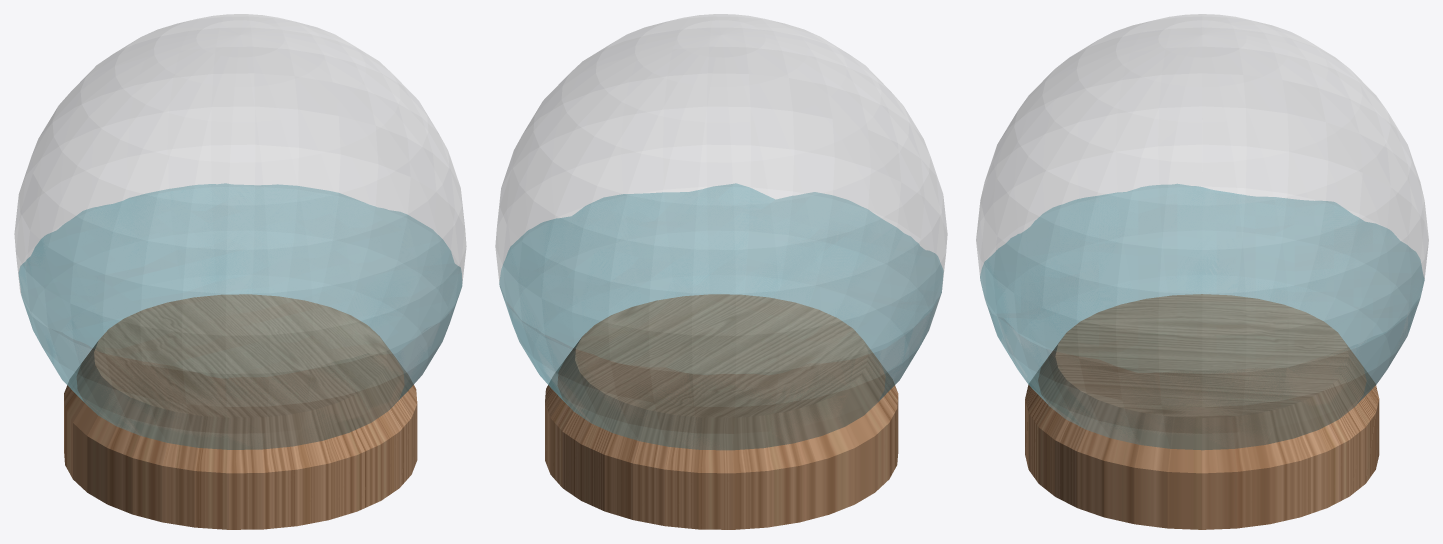
File: OceanModel.glb
3 views of the same model, side by side, from view 1: azimuth 30°, elevation 25°; view 2: azimuth 150°, elevation 25°; view 3: azimuth 270°, elevation 25° (orthographic).
Parts seen in each view (by area): view 1: Sphere.002, Cube.003, Cylinder.008; view 2: Sphere.002, Cube.003, Cylinder.008; view 3: Sphere.002, Cube.003, Cylinder.008.
Part boxes in pixels (x1,y1,x2,y2): Sphere.002: [14, 14, 466, 449]; Cube.003: [19, 183, 461, 449]; Cylinder.008: [64, 294, 417, 529]; Sphere.002: [495, 14, 947, 449]; Cube.003: [499, 183, 943, 449]; Cylinder.008: [545, 294, 898, 529]; Sphere.002: [976, 14, 1428, 449]; Cube.003: [980, 184, 1424, 449]; Cylinder.008: [1025, 294, 1379, 529].
Size of the model in its own units: 554 by 567 by 554.
Materials: 3 (1 with a texture image).
